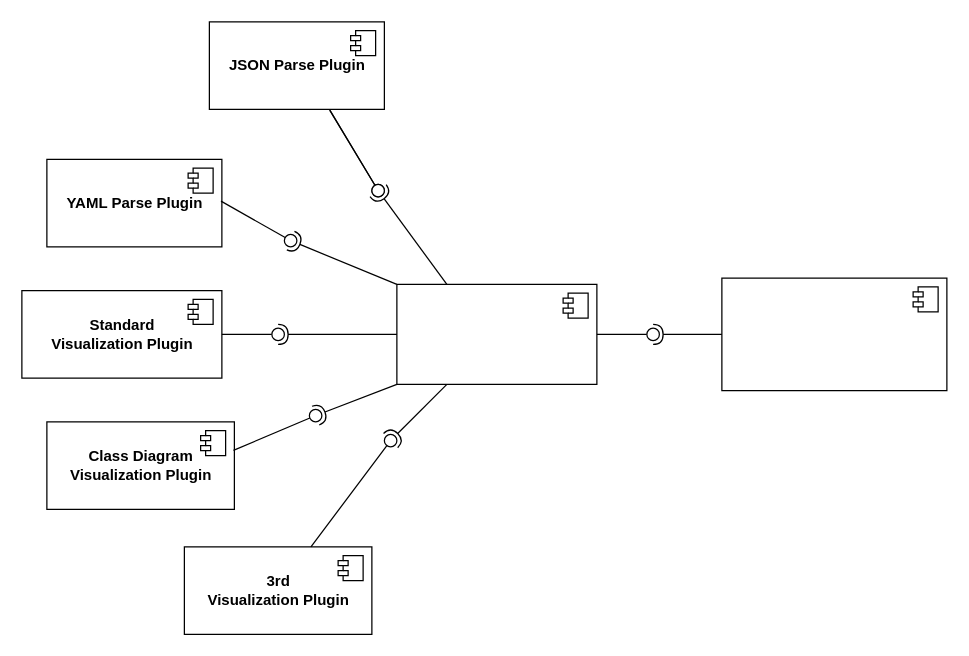
Image size: 969x656. Some labels were removed from this diagram. The centre of each missing label's shape, as x and y in pixels:
"Django program & Core" goes at pixel 496 333.
"Web Page" goes at pixel 834 334.
